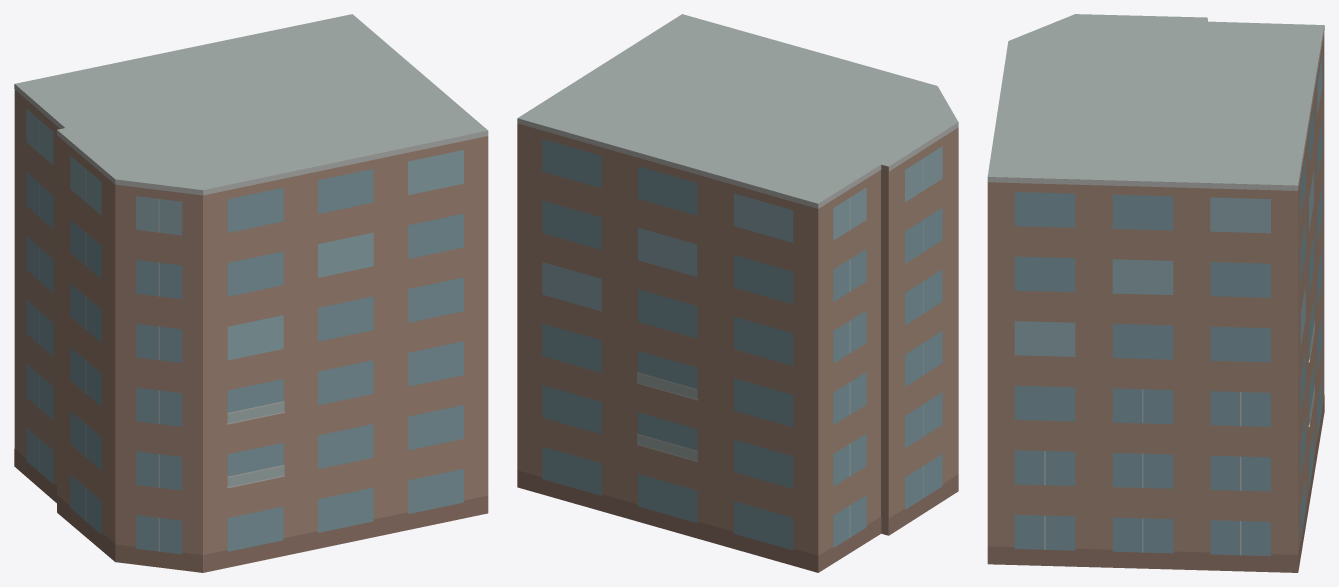
The model's file is survey-upis-32974923.glb.
3 renders of one model, left to right at view 1: azimuth 30°, elevation 25°; view 2: azimuth 150°, elevation 25°; view 3: azimuth 270°, elevation 25°, orthographic. The views are drawn at different scales.
Visible parts, largest first — view 1: survey-upis-32974923.tmp; view 2: survey-upis-32974923.tmp; view 3: survey-upis-32974923.tmp.
Boxes of the visible parts, box(x1,y1,x2,y2) form: survey-upis-32974923.tmp: box(14, 14, 488, 572); survey-upis-32974923.tmp: box(517, 14, 958, 572); survey-upis-32974923.tmp: box(987, 14, 1324, 572).
Size of the model in its own units: 16.75 by 17.63 by 13.9.
